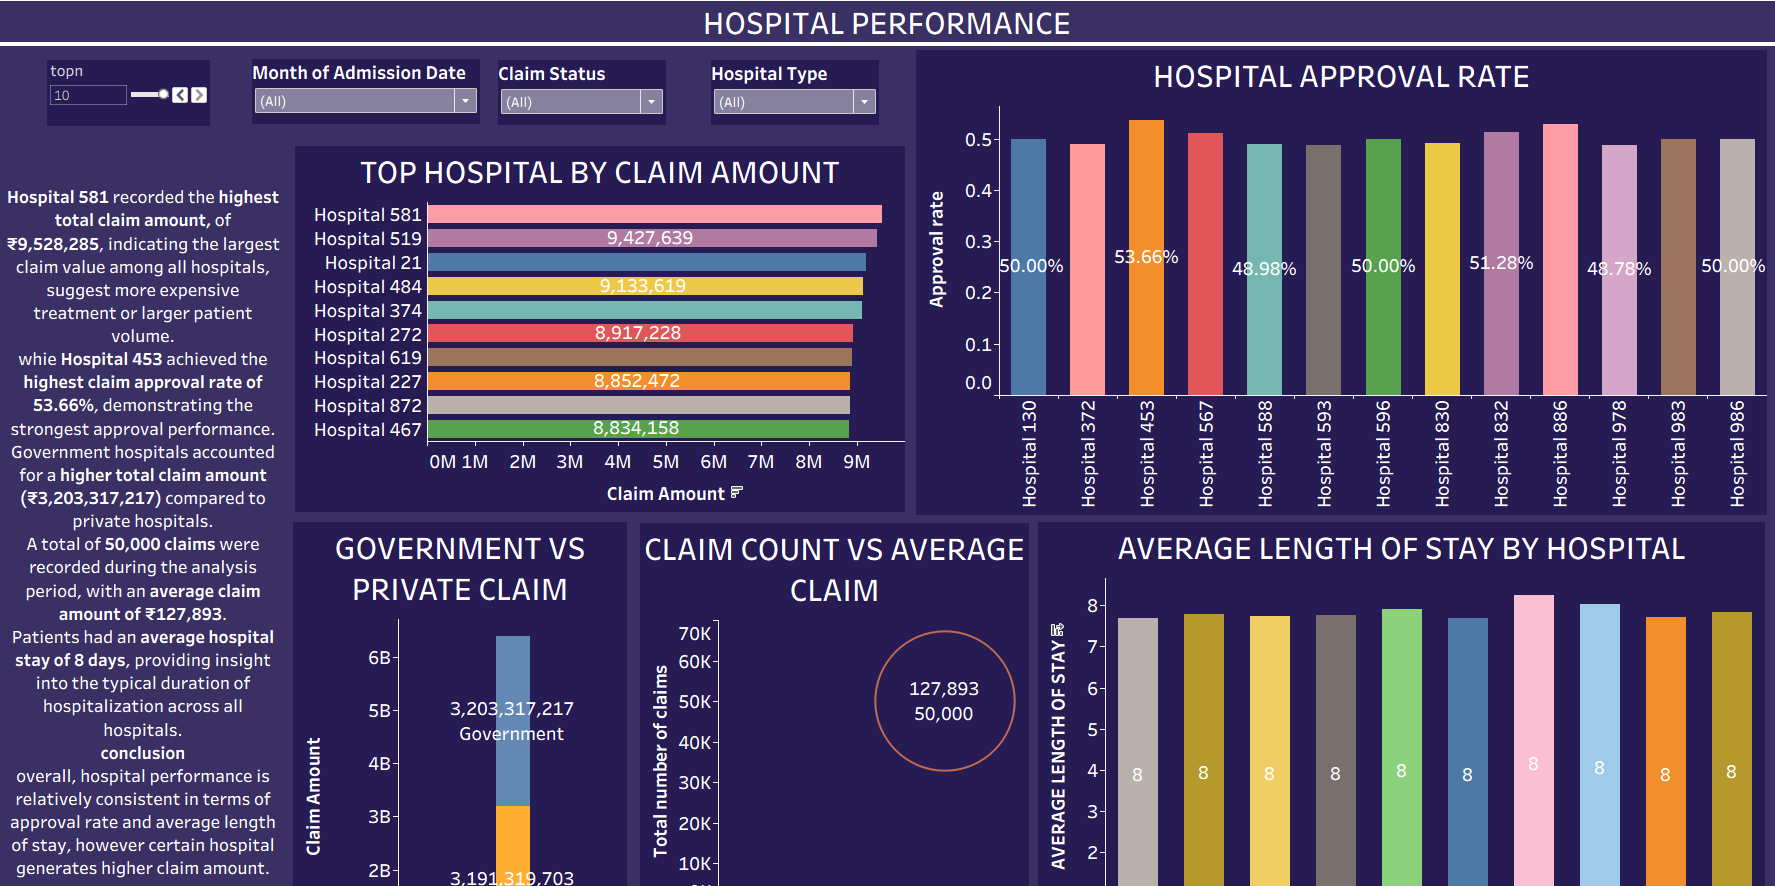

Layout of this report page (visuals, bound fields, positions):
{"tool":"tableau","page":{"name":"hospital performance","canvas":[1800,1000],"ordinal":4},"visuals":[{"type":"title","box":[8,8,1784,49]},{"type":"worksheet","title":"HOSPITAL APPROVAL RATE","mark":"Automatic","rows":["Calculation_0320805891792897"],"cols":["Hospital_Name"],"box":[929,61,851,465]},{"type":"filter","title":"top hospital by claim amount","param":"[federated.1jsaujx1js1zzq111lixo1foi2vq].[mn:Admission_Date:ok]","box":[265,70,228,65]},{"type":"parameter","param":"[Parameters].[Parameter 0320805919653902]","box":[60,71,163,66]},{"type":"filter","title":"top hospital by claim amount","param":"[federated.1jsaujx1js1zzq111lixo1foi2vq].[none:Claim_Status:nk]","box":[511,71,168,65]},{"type":"filter","title":"top hospital by claim amount","param":"[federated.1jsaujx1js1zzq111lixo1foi2vq].[none:Hospital_Type:nk]","box":[724,71,168,65]},{"type":"text","box":[16,146,280,797]},{"type":"worksheet","title":"top hospital by claim amount","mark":"Automatic","rows":["Hospital_Name"],"cols":["Claim_Amount"],"box":[308,157,610,366]},{"type":"worksheet","title":"GOVERNMENT VS PRIVATE CLAIM","mark":"Automatic","rows":["Claim_Amount"],"box":[306,533,334,454]},{"type":"worksheet","title":"AVERAGE LENGTH OF STAY BY HOSPITAL","mark":"Automatic","rows":["Calculation_0320805893021701"],"cols":["Hospital_Name"],"box":[1051,533,727,452]},{"type":"worksheet","title":"CLAIM COUNT VS AVERAGE CLAIMM","mark":"Automatic","rows":["Calculation_1143515297697800"],"cols":["Calculation_0320805892599811"],"box":[653,534,389,452]}]}

Visuals, with their boxes on the page's 1800x1000 design canvas (x1, y1, x2, y2). These are canvas units, not pixel positions in the 1775x886 screenshot, which may show the page scaled, cropped or inside an application window:
title: rect(8, 8, 1792, 57)
"HOSPITAL APPROVAL RATE" worksheet: rect(929, 61, 1780, 526)
"top hospital by claim amount" filter: rect(265, 70, 493, 135)
parameter: rect(60, 71, 223, 137)
"top hospital by claim amount" filter: rect(511, 71, 679, 136)
"top hospital by claim amount" filter: rect(724, 71, 892, 136)
text: rect(16, 146, 296, 943)
"top hospital by claim amount" worksheet: rect(308, 157, 918, 523)
"GOVERNMENT VS PRIVATE CLAIM" worksheet: rect(306, 533, 640, 987)
"AVERAGE LENGTH OF STAY BY HOSPITAL" worksheet: rect(1051, 533, 1778, 985)
"CLAIM COUNT VS AVERAGE CLAIMM" worksheet: rect(653, 534, 1042, 986)
